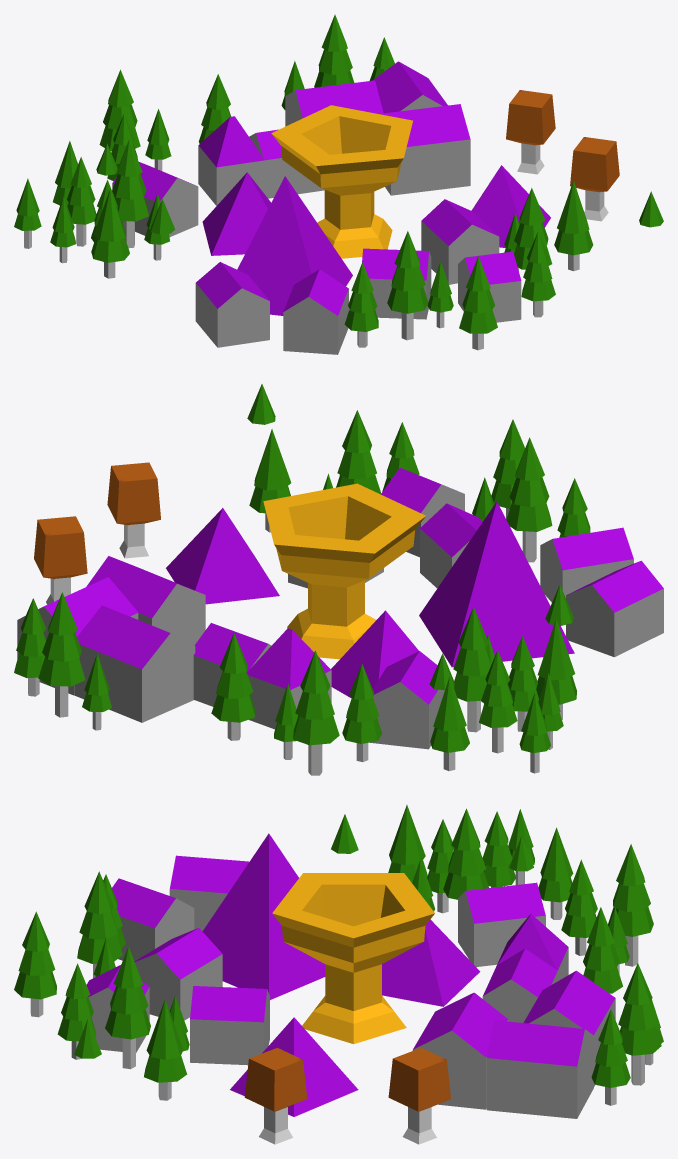
File: BaoxiongTown.fbx
The picture shows the model from 3 angles, top to bottom: view 1: azimuth 30°, elevation 25°; view 2: azimuth 150°, elevation 25°; view 3: azimuth 270°, elevation 25°; orthographic projection. The views are drawn at different scales.
Parts seen in each view (by area): view 1: polySurface141; view 2: polySurface141; view 3: polySurface141.
Part boxes in pixels (box(x1,y1,x2,y2)): polySurface141: box(14, 14, 663, 354); polySurface141: box(14, 384, 663, 775); polySurface141: box(14, 805, 663, 1144).
Size of the model in its own units: 70.74 by 16.19 by 71.79.
